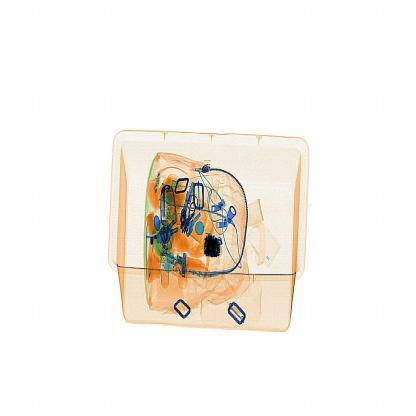scissors: (196, 226, 227, 264)
